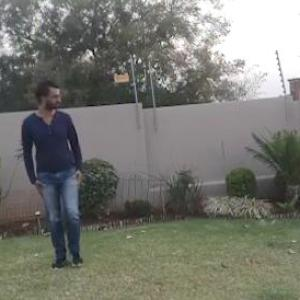follow: (28, 76, 86, 269)
